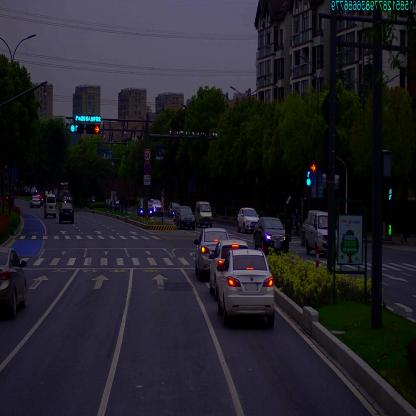traffic-light: (74, 113, 102, 122), (68, 122, 85, 135), (88, 124, 102, 134)
